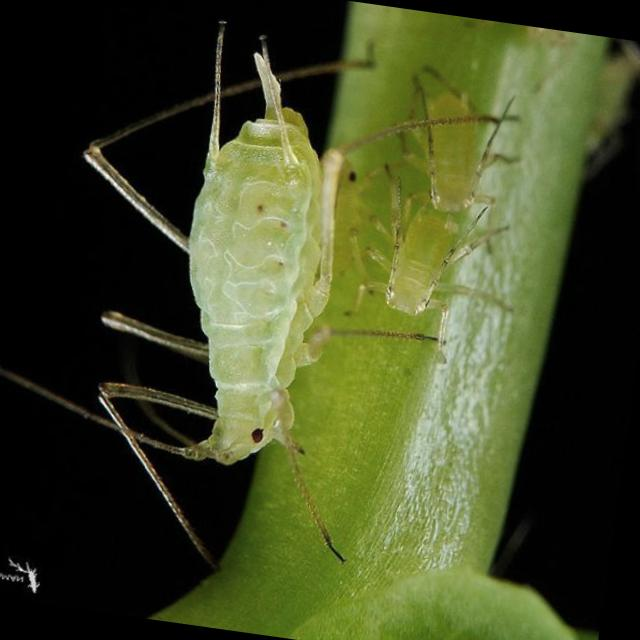Aphid: (26, 5, 398, 569), (381, 41, 531, 221), (336, 185, 501, 341)
